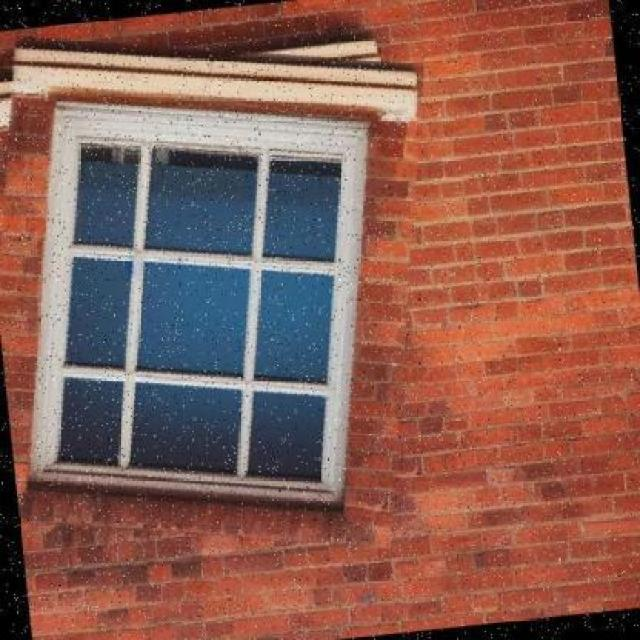window: (42, 106, 358, 503)
